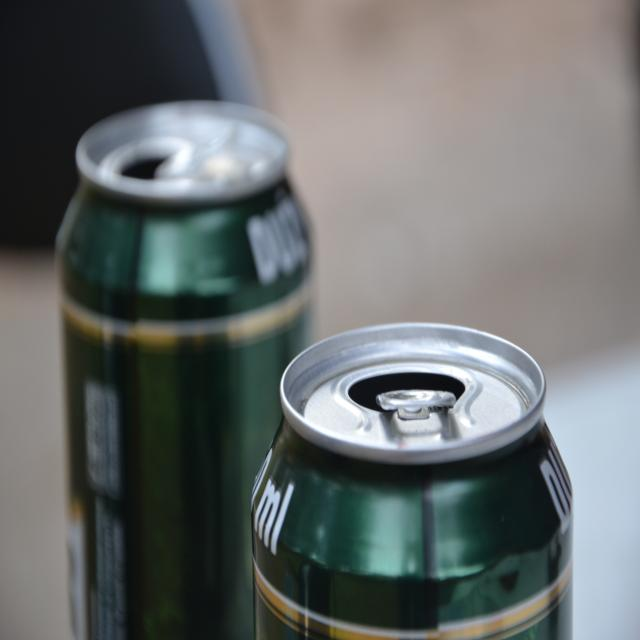Dry Waste: (60, 121, 573, 630)
